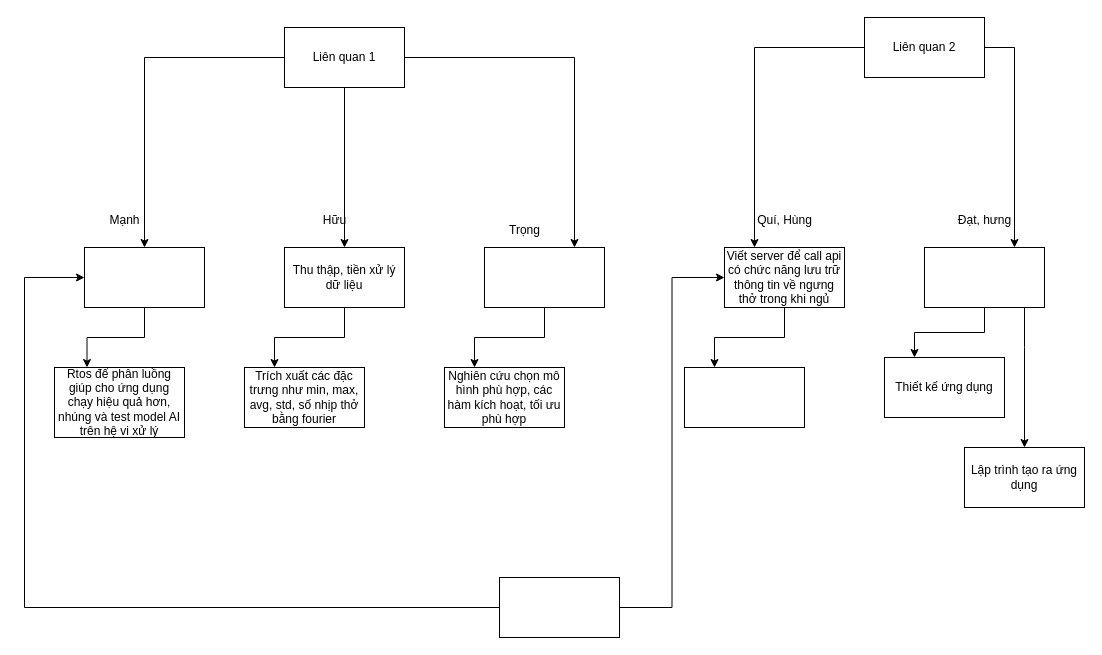
The diagram is 1102 pixels wide and 655 high, and some of its shapes have lost their labels. Here are the shapes that lost their labels. From the top down, the centre of each, then its label:
At point (144, 277): "Viết chương trình trên arduino với rtos, ai model".
At point (544, 277): "Tạo, train và chuyển AI model sang c++".
At point (984, 277): "Viết ứng dụng mobile call api từ server để xem thông thin theo dõi".
At point (744, 397): "Qui định input, output cho mỗi api".
At point (559, 607): "Liên quan 3".
